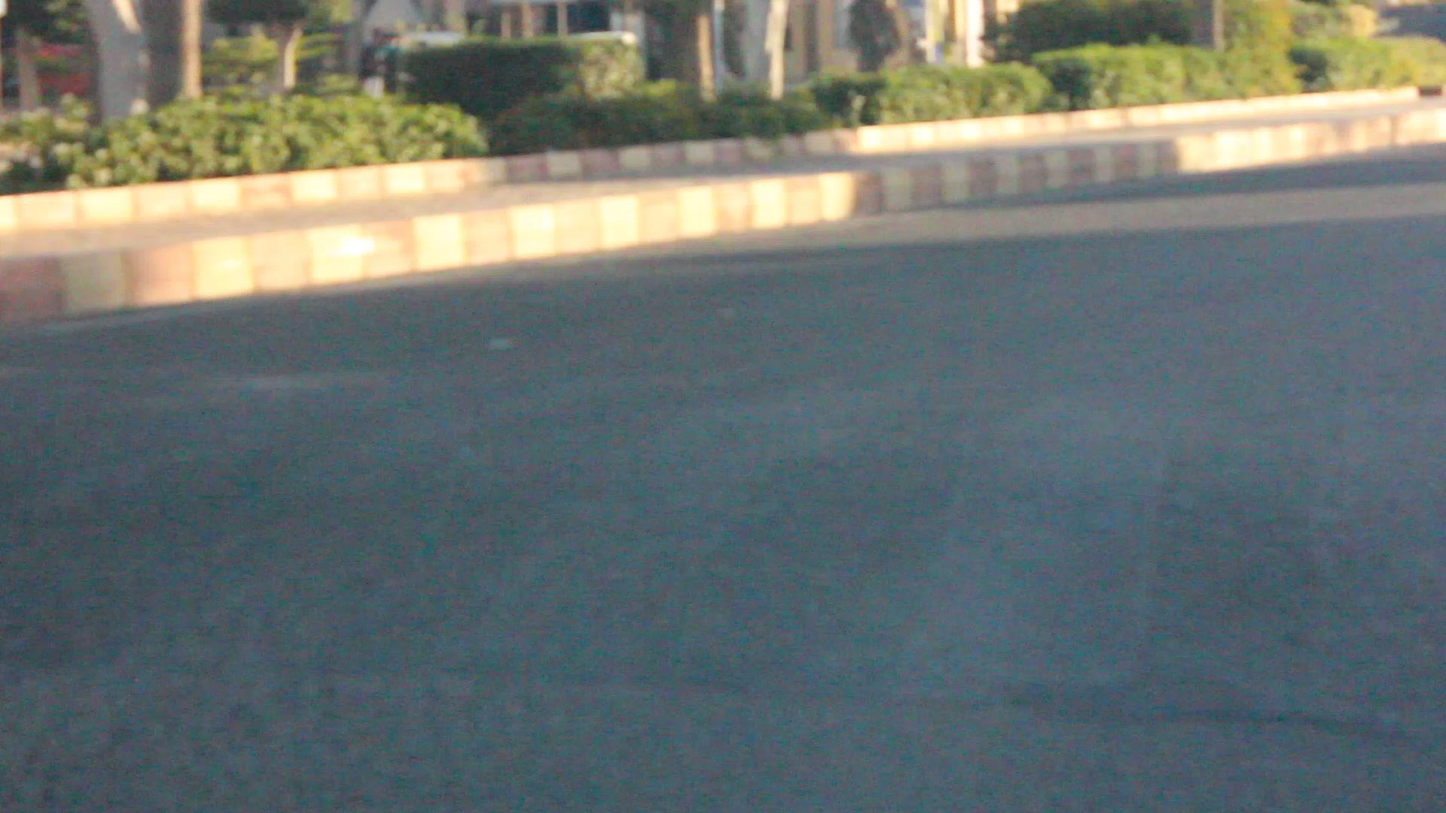Bump: (17, 361, 1446, 687)
